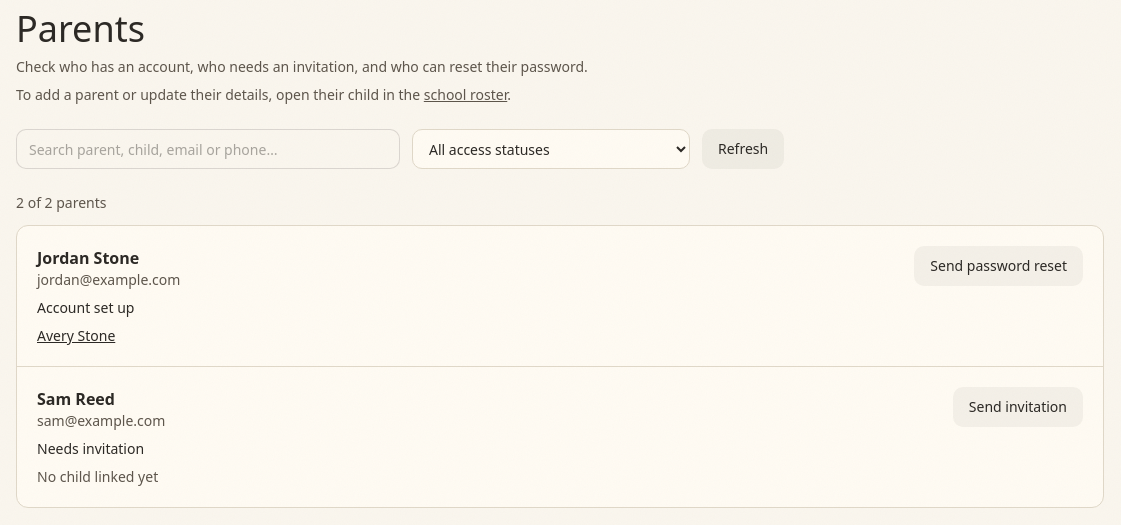
searches by child and filters parents who still need an invitation
Expected: the heading "Jordan Stone" is shown, left=37, top=247, right=139, bottom=269
Type "Avery" into the field named "Search parents". click: (208, 149)
box: left=16, top=129, right=400, bottom=169
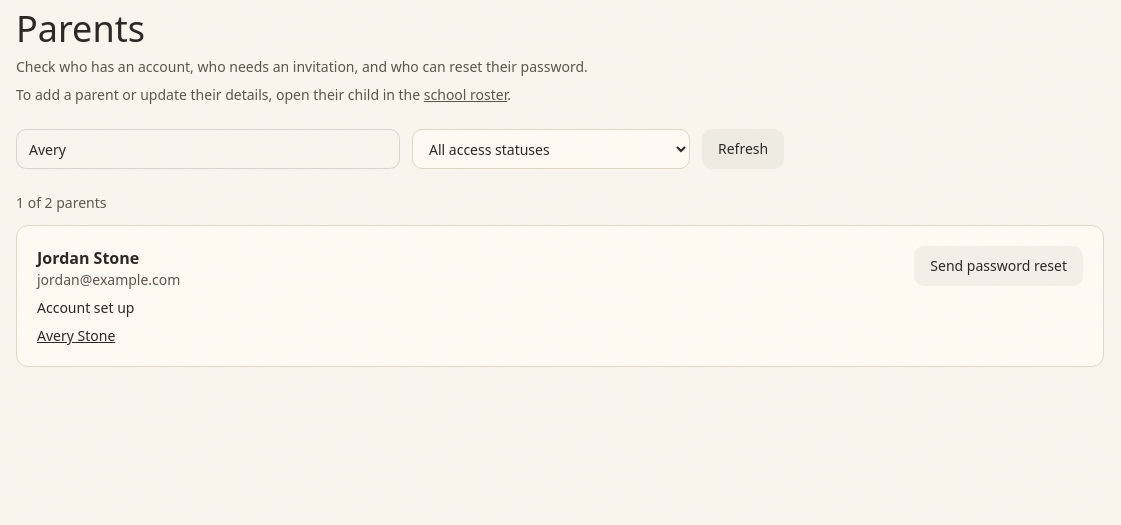
Result: the heading "Sam Reed" is gone
Clear the field named "Search parents". click: (208, 149)
box: left=16, top=129, right=400, bottom=169
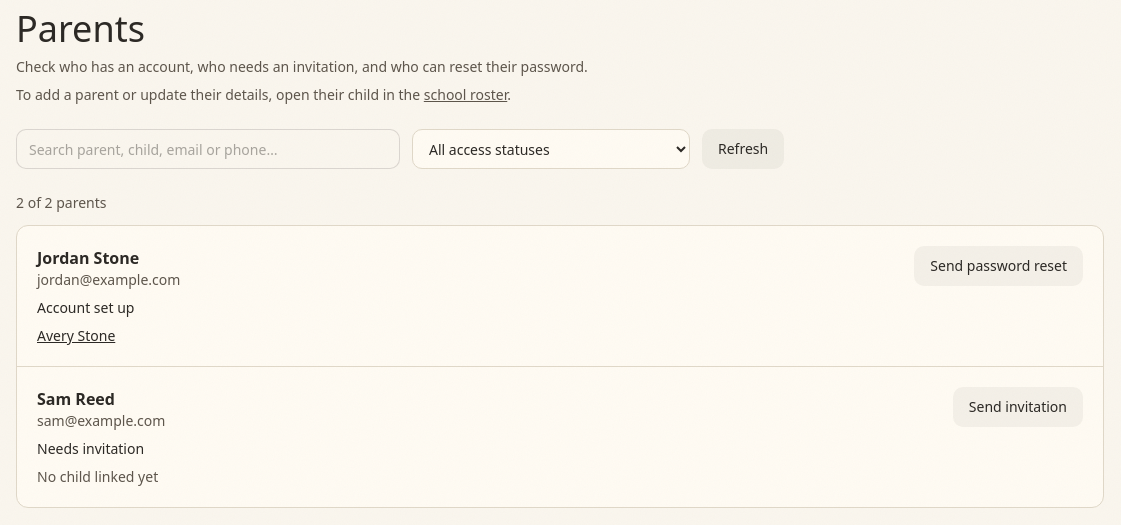
Select "Needs invitation" in the dropdown named "Filter parent access". click: (551, 149)
box: left=412, top=129, right=690, bottom=169
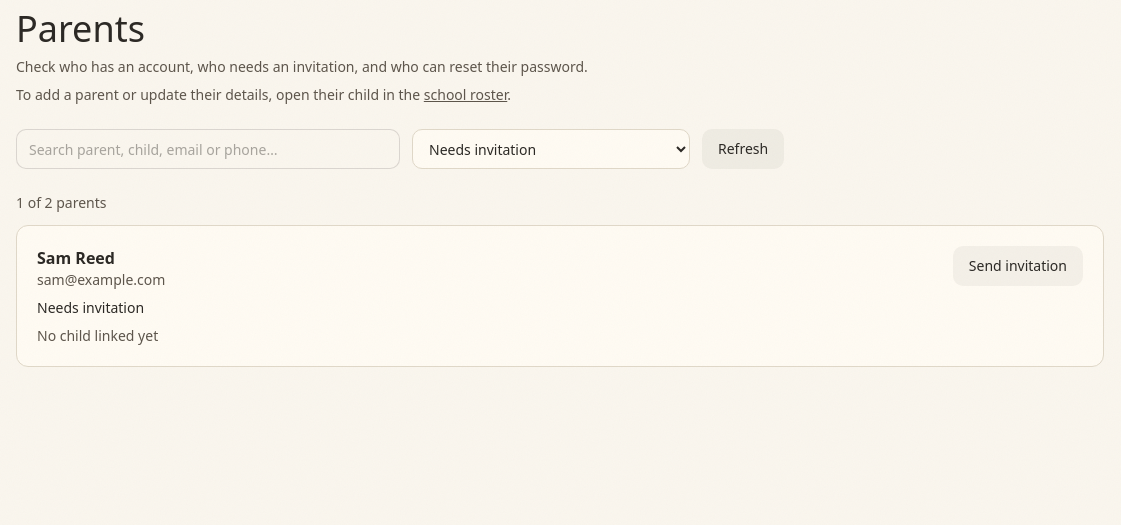
Result: the heading "Sam Reed" is shown at left=37, top=247, right=115, bottom=269
Result: the heading "Jordan Stone" is gone
